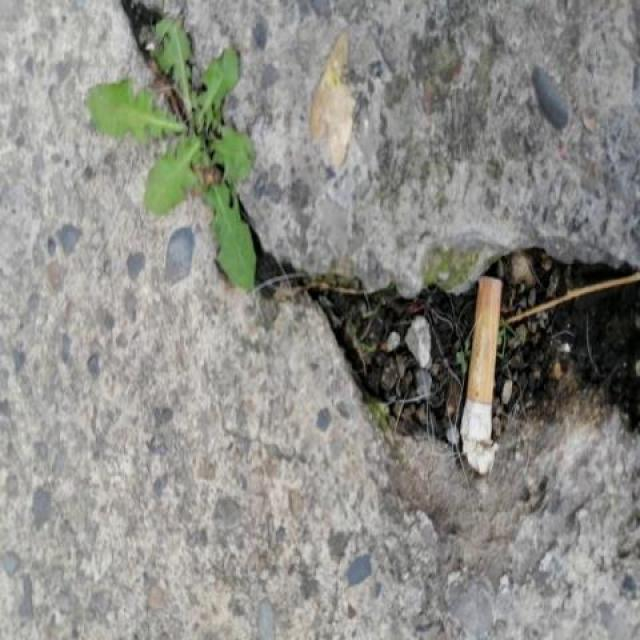non-organic waste: (455, 268, 508, 485)
